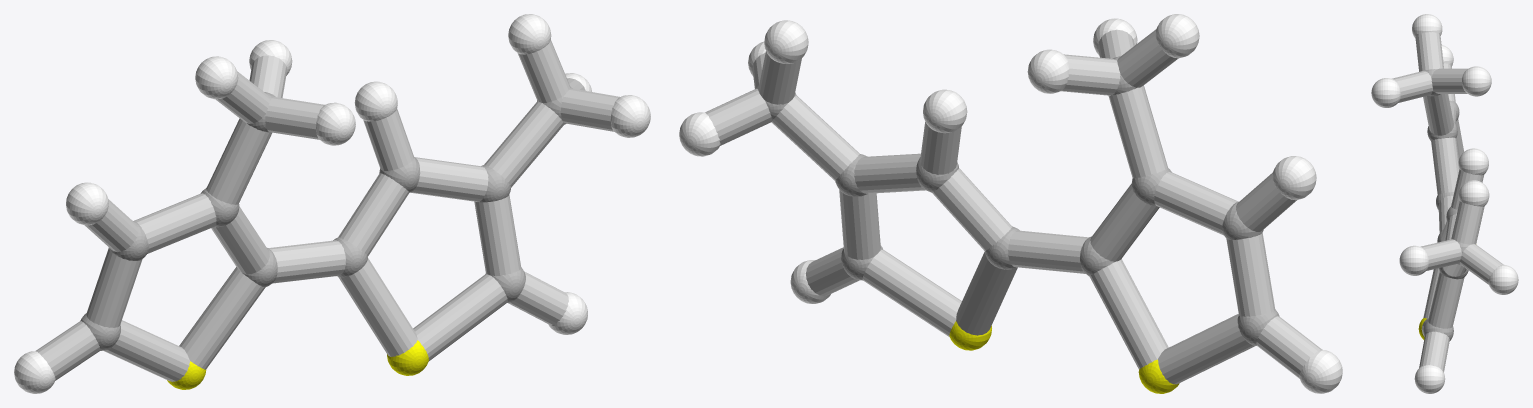
The model's file is Methylthiophene_Phi_5_Theta_160_Methylthiophene.glb.
3 views of the same model, side by side, from view 1: azimuth 30°, elevation 25°; view 2: azimuth 150°, elevation 25°; view 3: azimuth 270°, elevation 25° (orthographic). The views are drawn at different scales.
Visible parts, largest first — view 1: grp7965, grp3621, grp1, grp7241; view 2: grp7965, grp3621, grp1, grp7241; view 3: grp7965, grp3621, grp1.
Part boxes in pixels (bbox=[...]): grp7965: bbox=[36, 39, 619, 381]; grp3621: bbox=[14, 14, 650, 393]; grp1: bbox=[80, 87, 572, 350]; grp7241: bbox=[167, 340, 428, 389]; grp7965: bbox=[705, 29, 1321, 384]; grp3621: bbox=[679, 14, 1342, 393]; grp1: bbox=[756, 56, 1279, 345]; grp7241: bbox=[949, 321, 1179, 393]; grp7965: bbox=[1392, 32, 1503, 372]; grp3621: bbox=[1371, 14, 1518, 393]; grp1: bbox=[1423, 69, 1469, 340].
Bounding box in the file's own units: 9.72 × 5.63 × 2.89.
